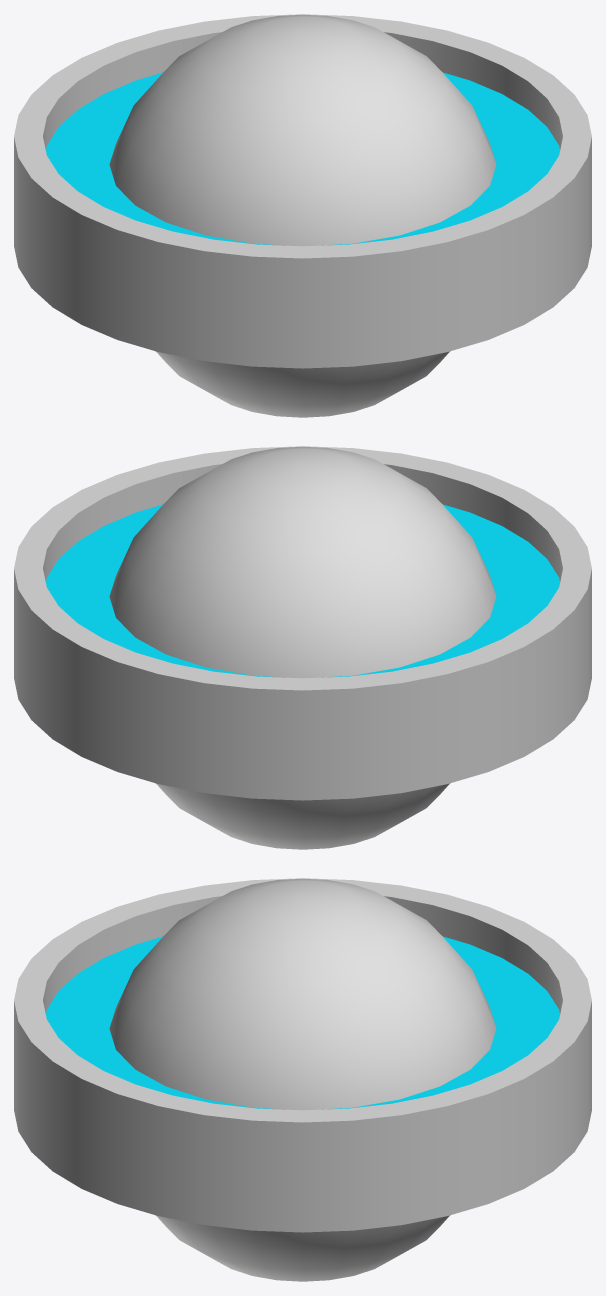
Rendered from Button actif.fbx.
3 renders of one model, top to bottom at view 1: azimuth 30°, elevation 25°; view 2: azimuth 150°, elevation 25°; view 3: azimuth 270°, elevation 25°, orthographic.
Visible parts, largest first — view 1: Sphere, Tube_1, Tube, Tube_2; view 2: Sphere, Tube_1, Tube, Tube_2; view 3: Sphere, Tube_1, Tube, Tube_2.
Boxes of the visible parts, bbox=[...] form: Sphere: bbox=[109, 14, 496, 417]; Tube_1: bbox=[14, 14, 591, 295]; Tube: bbox=[14, 169, 591, 368]; Tube_2: bbox=[46, 72, 559, 245]; Sphere: bbox=[109, 446, 496, 849]; Tube_1: bbox=[14, 446, 591, 727]; Tube: bbox=[14, 601, 591, 800]; Tube_2: bbox=[46, 504, 559, 677]; Sphere: bbox=[109, 878, 496, 1281]; Tube_1: bbox=[14, 878, 591, 1159]; Tube: bbox=[14, 1038, 591, 1232]; Tube_2: bbox=[46, 936, 559, 1109].
Size of the model in its own units: 100 by 70 by 100.
